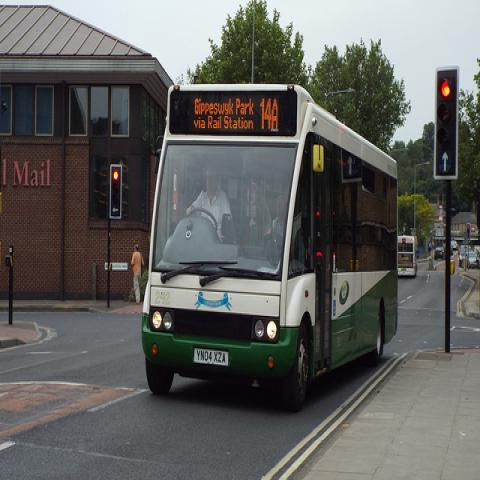bus: (142, 82, 400, 413)
car: (466, 251, 479, 269), (458, 245, 468, 266), (434, 246, 445, 261), (450, 241, 458, 250)
